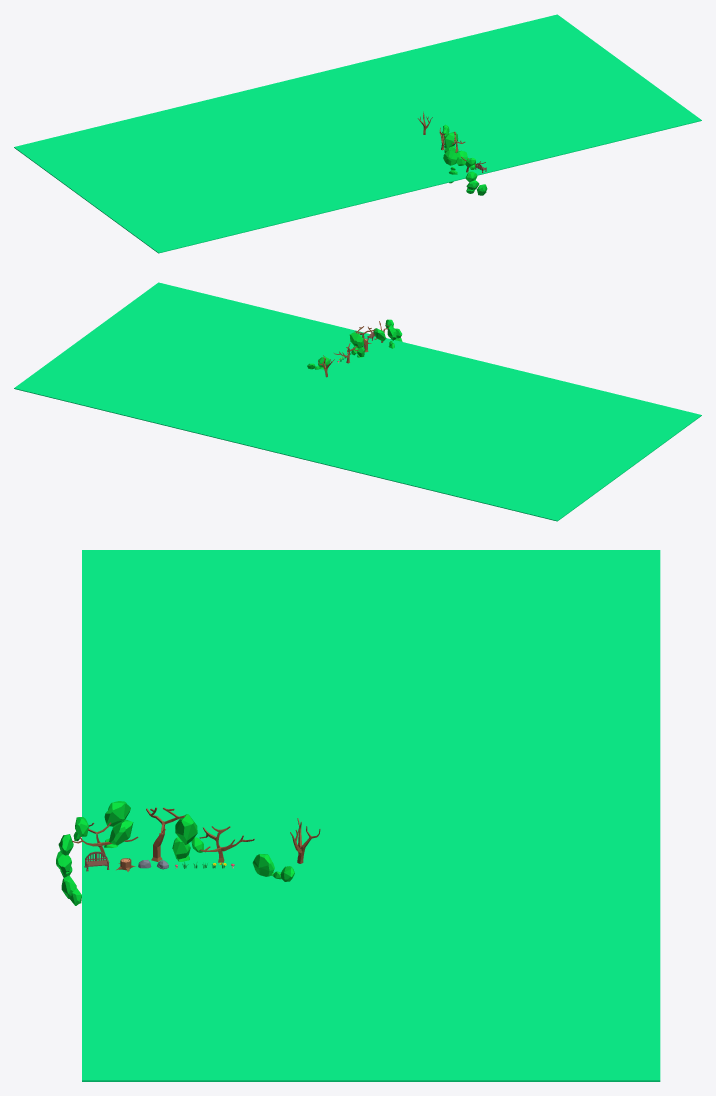
Rendered from models.fbx.
3 views of the same model, one above another, from view 1: azimuth 30°, elevation 25°; view 2: azimuth 150°, elevation 25°; view 3: azimuth 270°, elevation 25° (orthographic). The views are drawn at different scales.
Visible parts, largest first — view 1: Ground; view 2: Ground; view 3: Ground.
Part boxes in pixels (x1=…): Ground: x1=14, y1=14, x2=701, y2=253; Ground: x1=14, y1=282, x2=701, y2=521; Ground: x1=82, y1=550, x2=660, y2=1081.
Size of the model in its own units: 15209 by 1255 by 7323.
